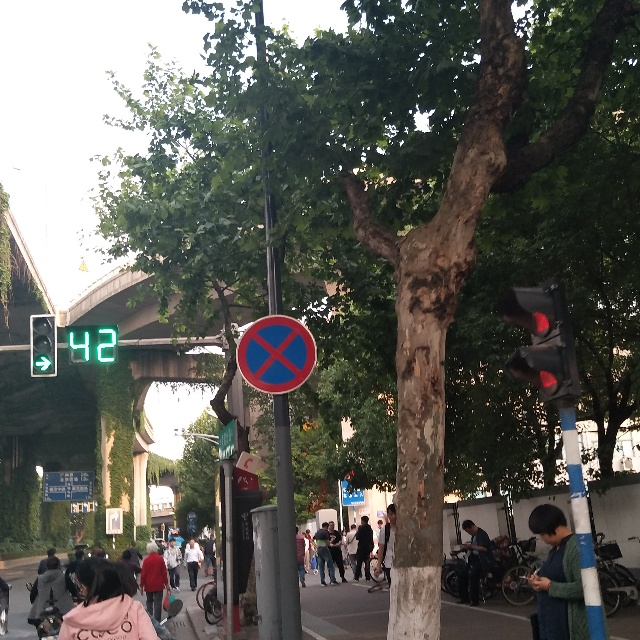stop: (243, 321, 305, 384)
